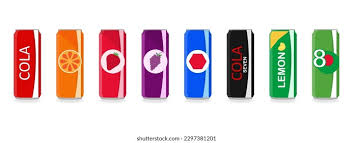can: (10, 26, 346, 104)
